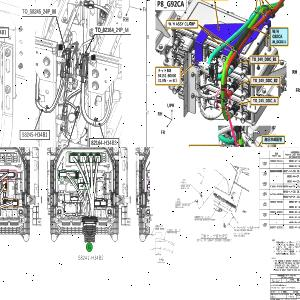PartNumber: (77, 254, 104, 261), (91, 140, 117, 146), (21, 132, 47, 137), (158, 73, 178, 78), (270, 184, 282, 189), (270, 200, 283, 204), (270, 210, 283, 214), (270, 193, 283, 196), (270, 226, 283, 229), (0, 29, 6, 35), (270, 169, 282, 172), (270, 160, 283, 162)
